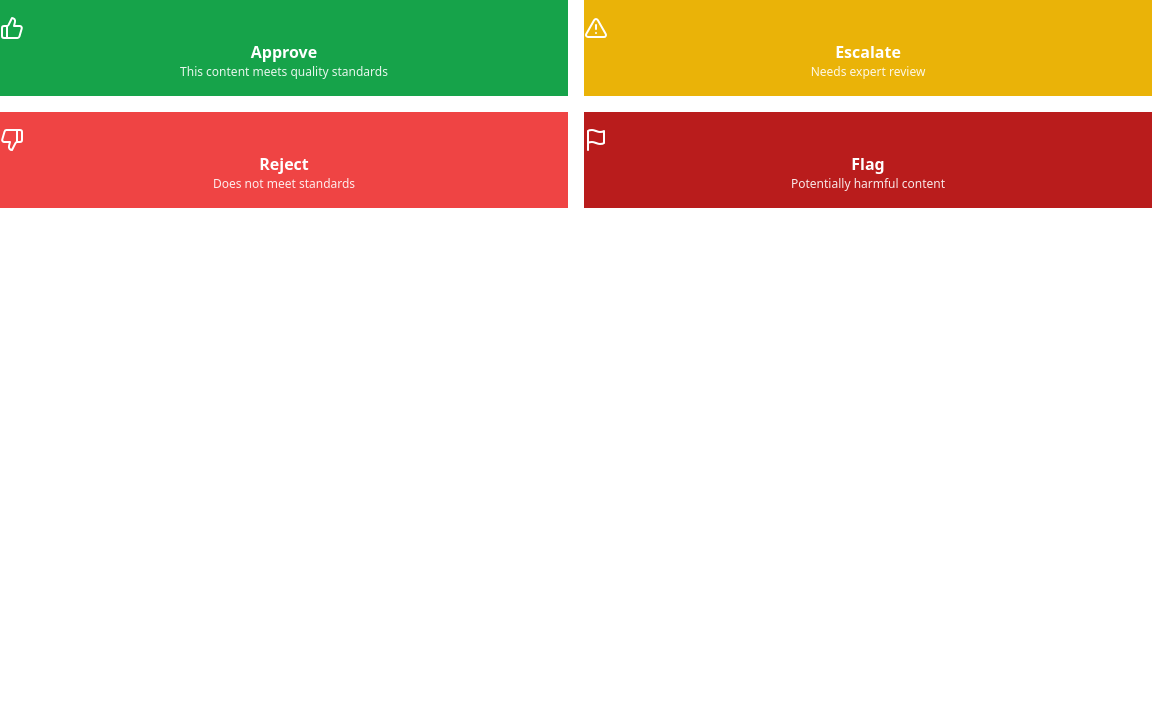
Test: VoteButtons › shows confirmation modal on vote click
The width and height of the screenshot is (1152, 720).
Click the text "Approve": point(284, 52) x1=251 y1=41 x2=317 y2=63
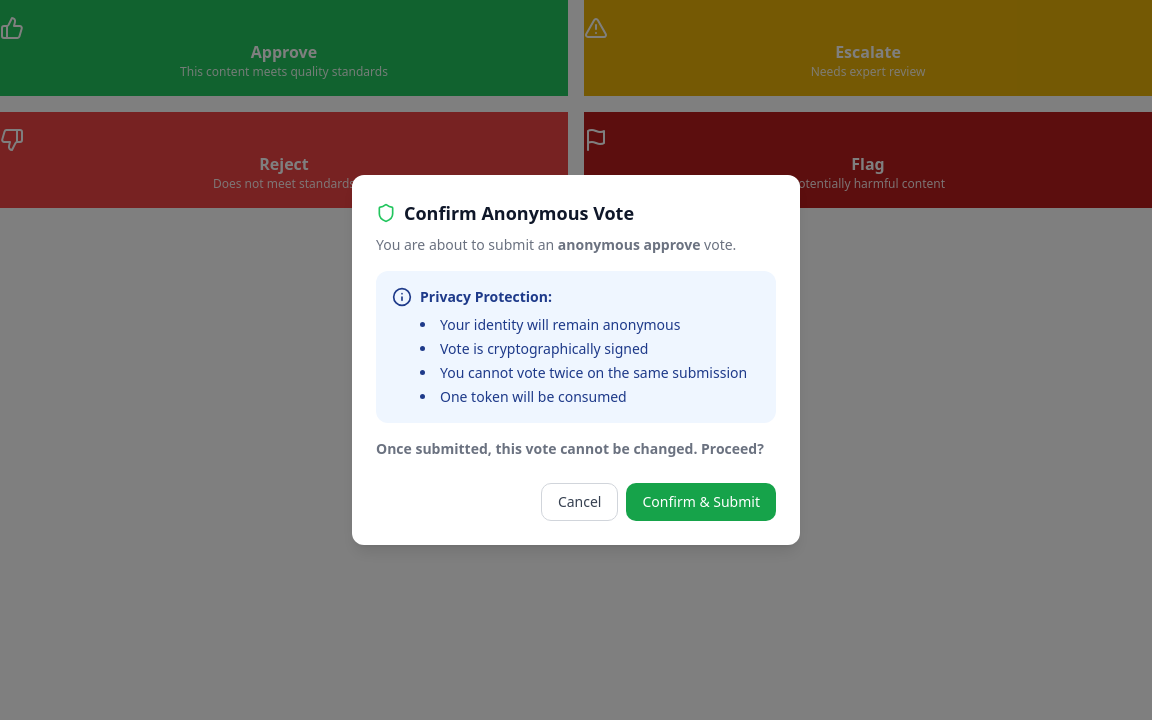
Expected: the heading "Confirm Anonymous Vote" is shown, x1=376 y1=201 x2=634 y2=225
